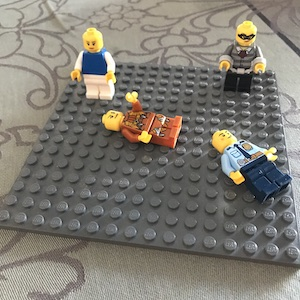Lego: (210, 128, 292, 200), (101, 96, 184, 152), (217, 18, 268, 94), (69, 27, 117, 102)
